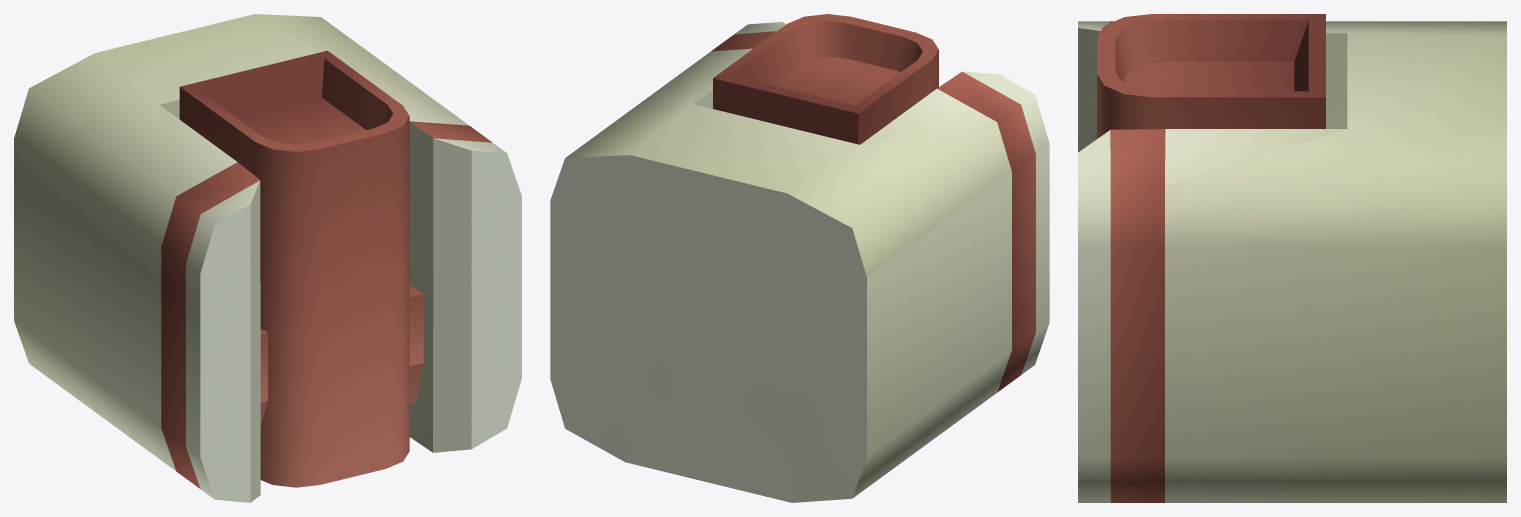
The model's file is Gun 3.fbx.
3 views of the same model, side by side, from view 1: azimuth 30°, elevation 25°; view 2: azimuth 150°, elevation 25°; view 3: azimuth 270°, elevation 25° (orthographic). The views are drawn at different scales.
Parts seen in each view (by area): view 1: Gun 3; view 2: Gun 3; view 3: Gun 3.
Part boxes in pixels (box(x1,y1,x2,y2)): Gun 3: box(14, 14, 521, 502); Gun 3: box(550, 14, 1049, 502); Gun 3: box(1078, 14, 1506, 502).
Bounding box in the file's own units: 100 × 100 × 100.
